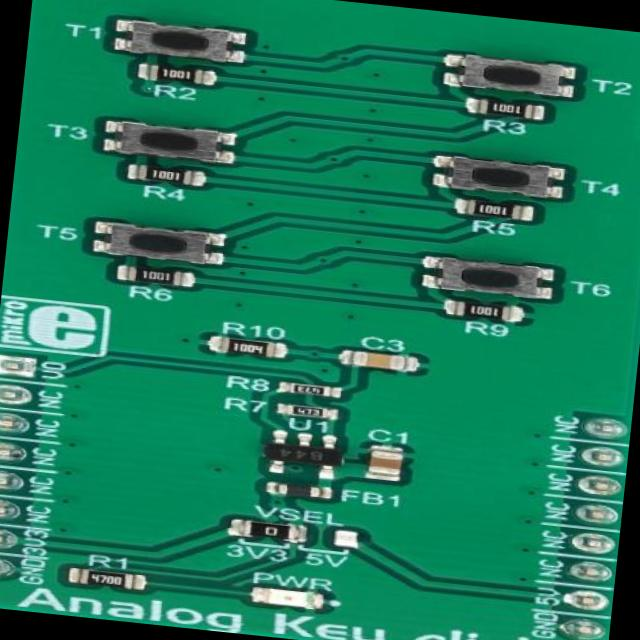IC: (268, 435, 347, 472)
LED: (256, 582, 334, 614)
capacitor: (346, 348, 418, 373), (368, 448, 406, 482)
resistor: (131, 162, 203, 185), (463, 198, 532, 221), (142, 64, 214, 85), (471, 98, 540, 119), (454, 299, 518, 321), (220, 338, 284, 360), (124, 266, 188, 286), (78, 566, 138, 587), (243, 520, 306, 540), (286, 401, 342, 423), (282, 381, 338, 398)
